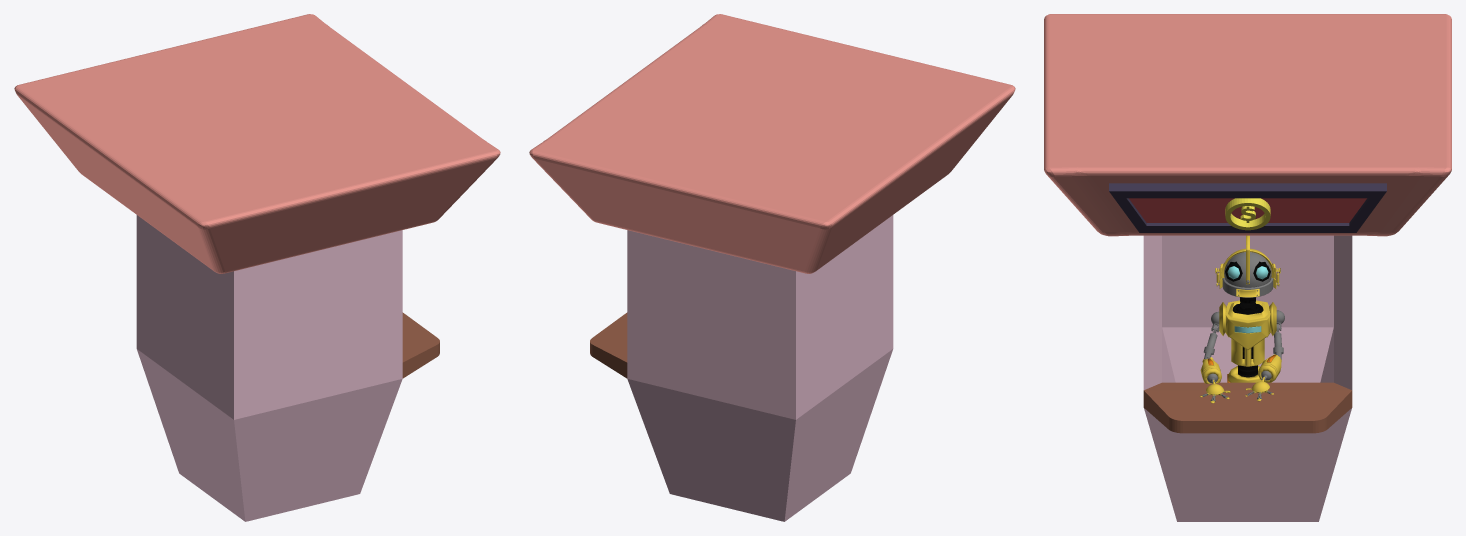
Rendered from Shop_final.fbx.
3 renders of one model, left to right at view 1: azimuth 30°, elevation 25°; view 2: azimuth 150°, elevation 25°; view 3: azimuth 270°, elevation 25°, orthographic. The views are drawn at different scales.
Visible parts, largest first — view 1: Shop; view 2: Shop; view 3: Shop, Robot, Dollar.
Part boxes in pixels (left/top/right/bottom): Shop: left=14, top=14, right=500, bottom=521; Shop: left=529, top=14, right=1015, bottom=521; Shop: left=1044, top=14, right=1451, bottom=521; Robot: left=1199, top=235, right=1284, bottom=403; Dollar: left=1225, top=198, right=1270, bottom=230.
Bounding box in the file's own units: 528 × 614 × 575.
